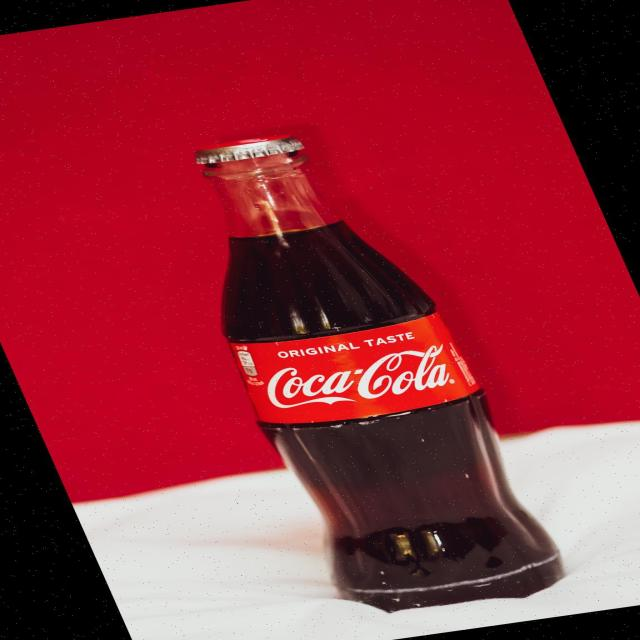coca-cola: (246, 339, 472, 422)
